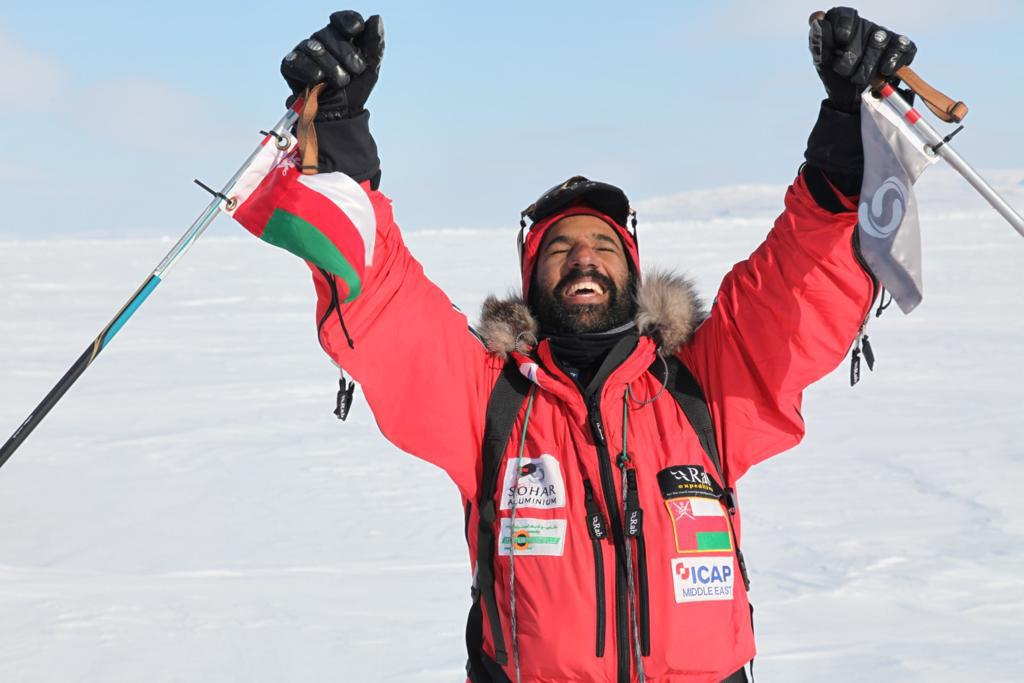face: (535, 209, 635, 325)
